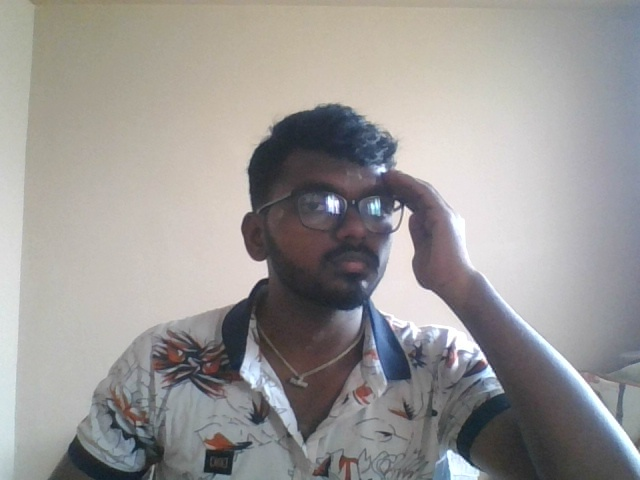Hello: (359, 161, 492, 328)
